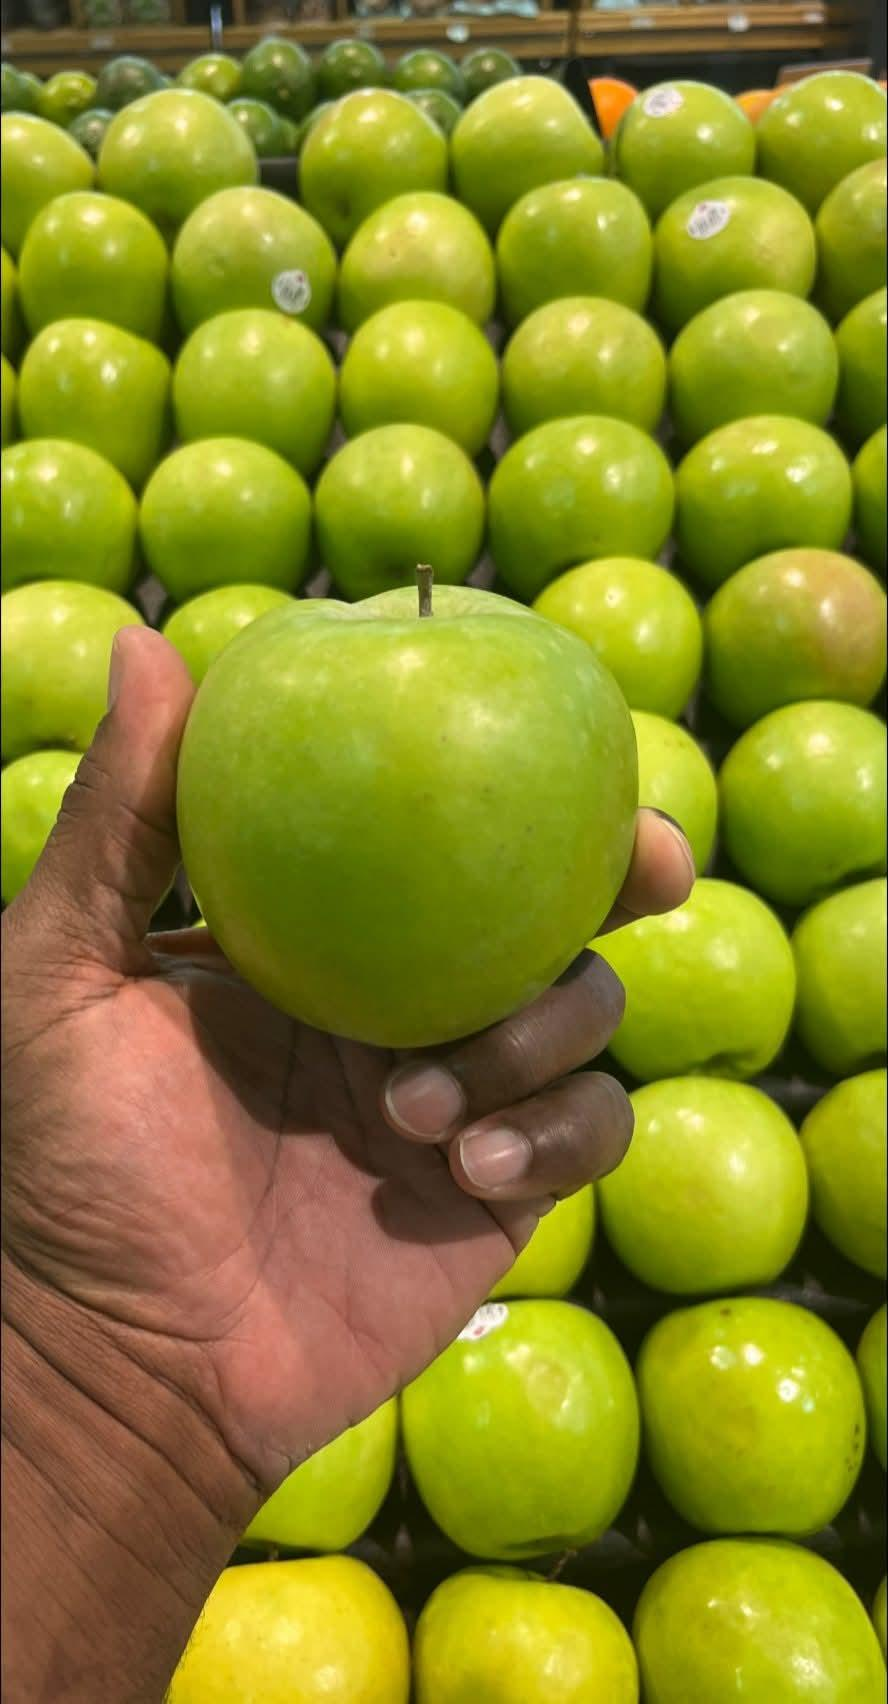non-mango: (175, 562, 645, 1066)
